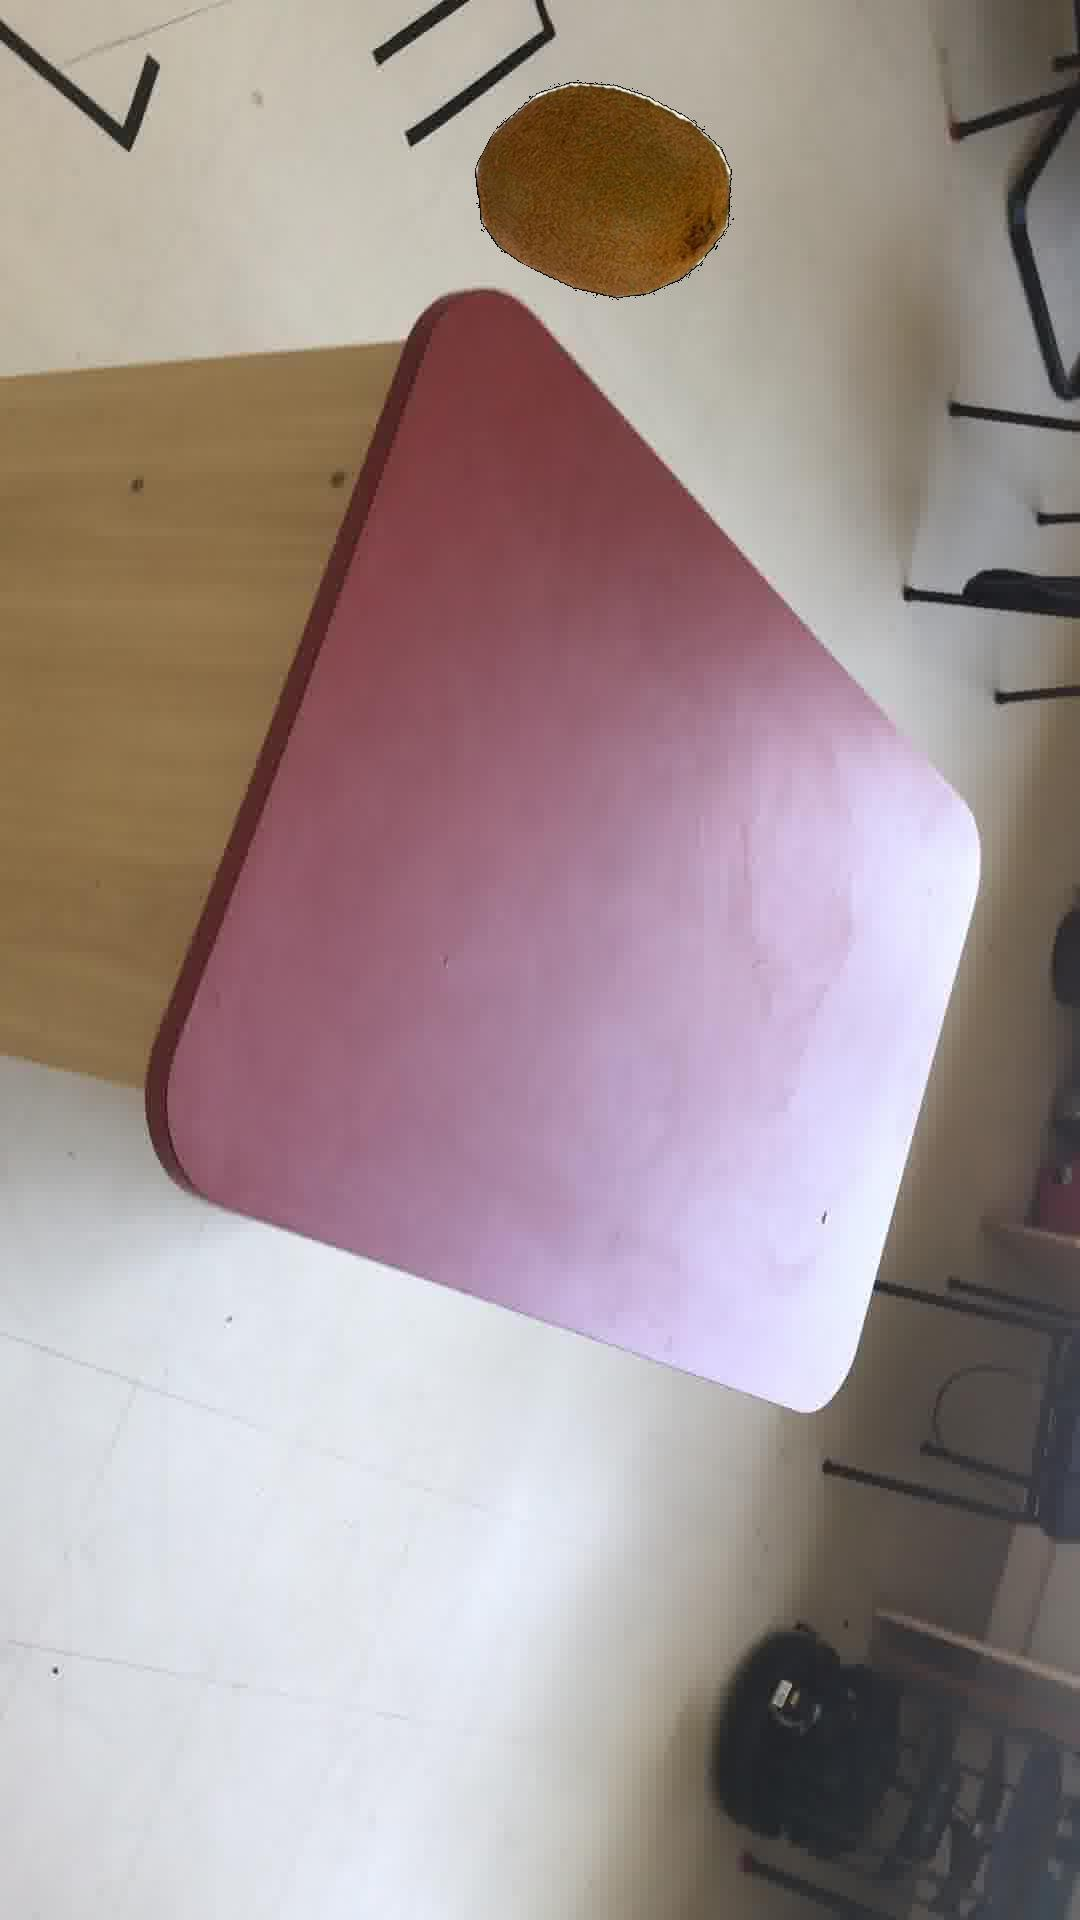kiwi: (473, 80, 731, 298)
